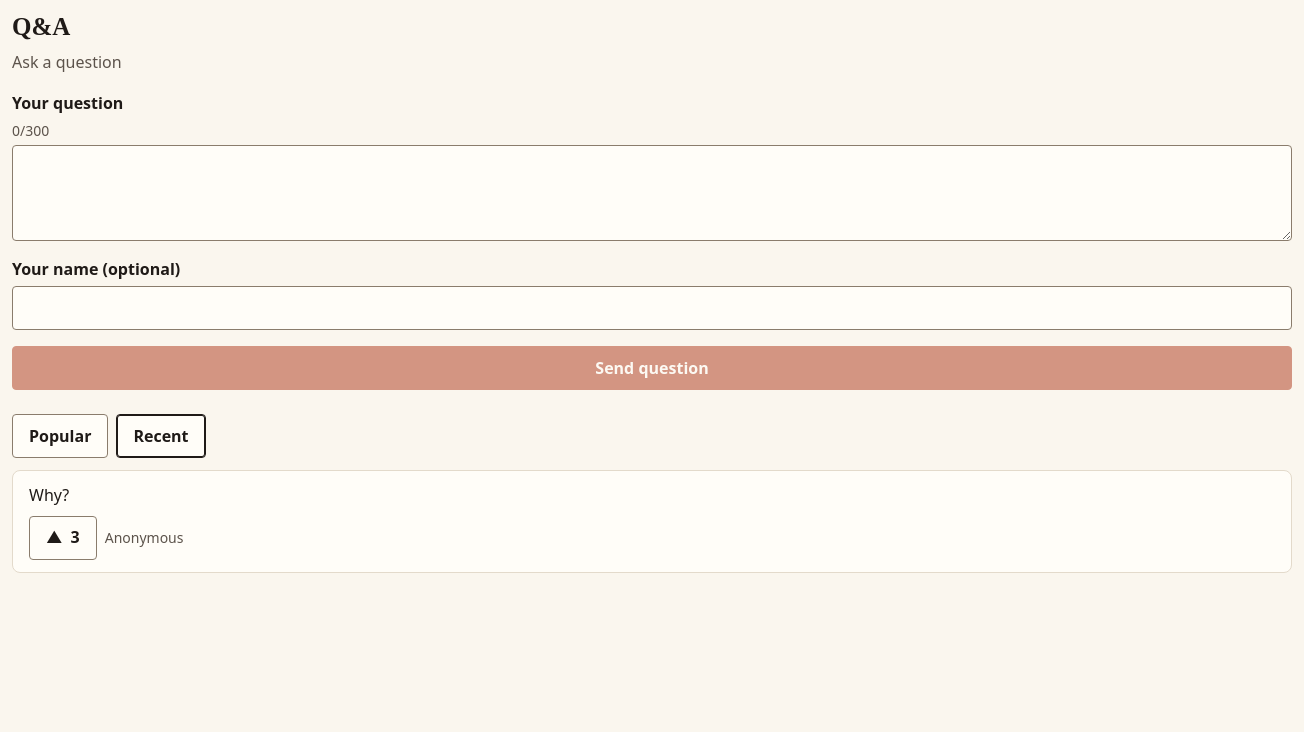
toggles an upvote and shows the new count
Click the button named "Upvote: Why?".
click(63, 538)  # box [29, 516, 97, 560]
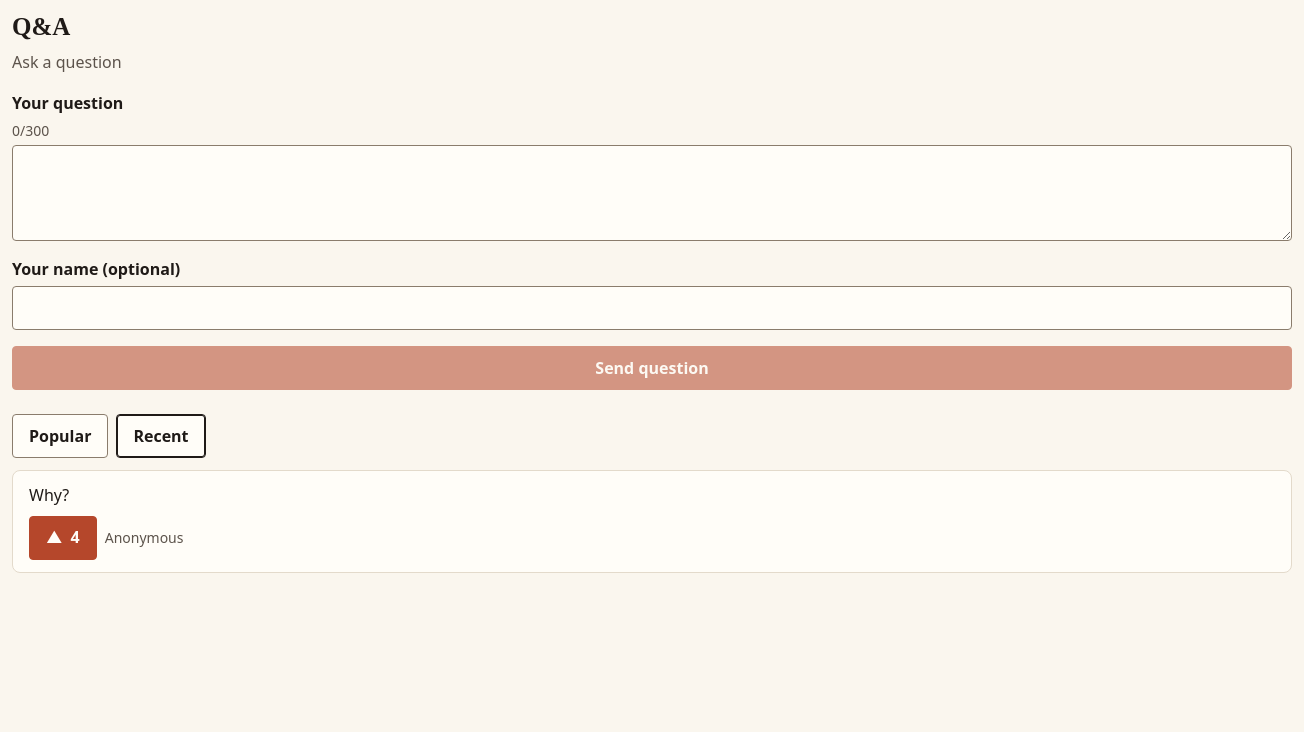
Check: the button named "Upvote: Why?" shows "4", box [29, 516, 97, 560]
